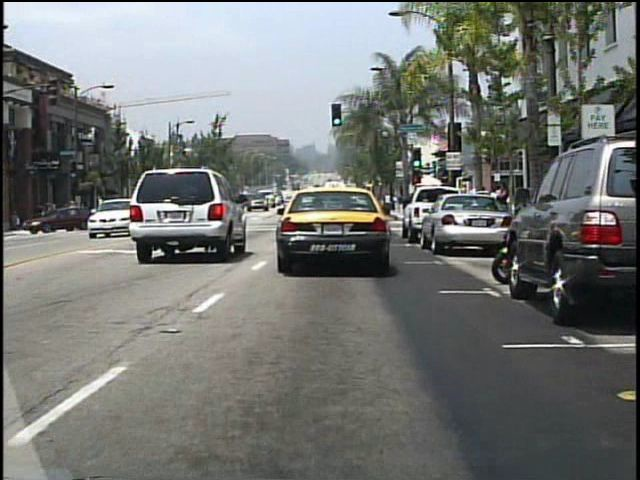person: (492, 182, 511, 230)
